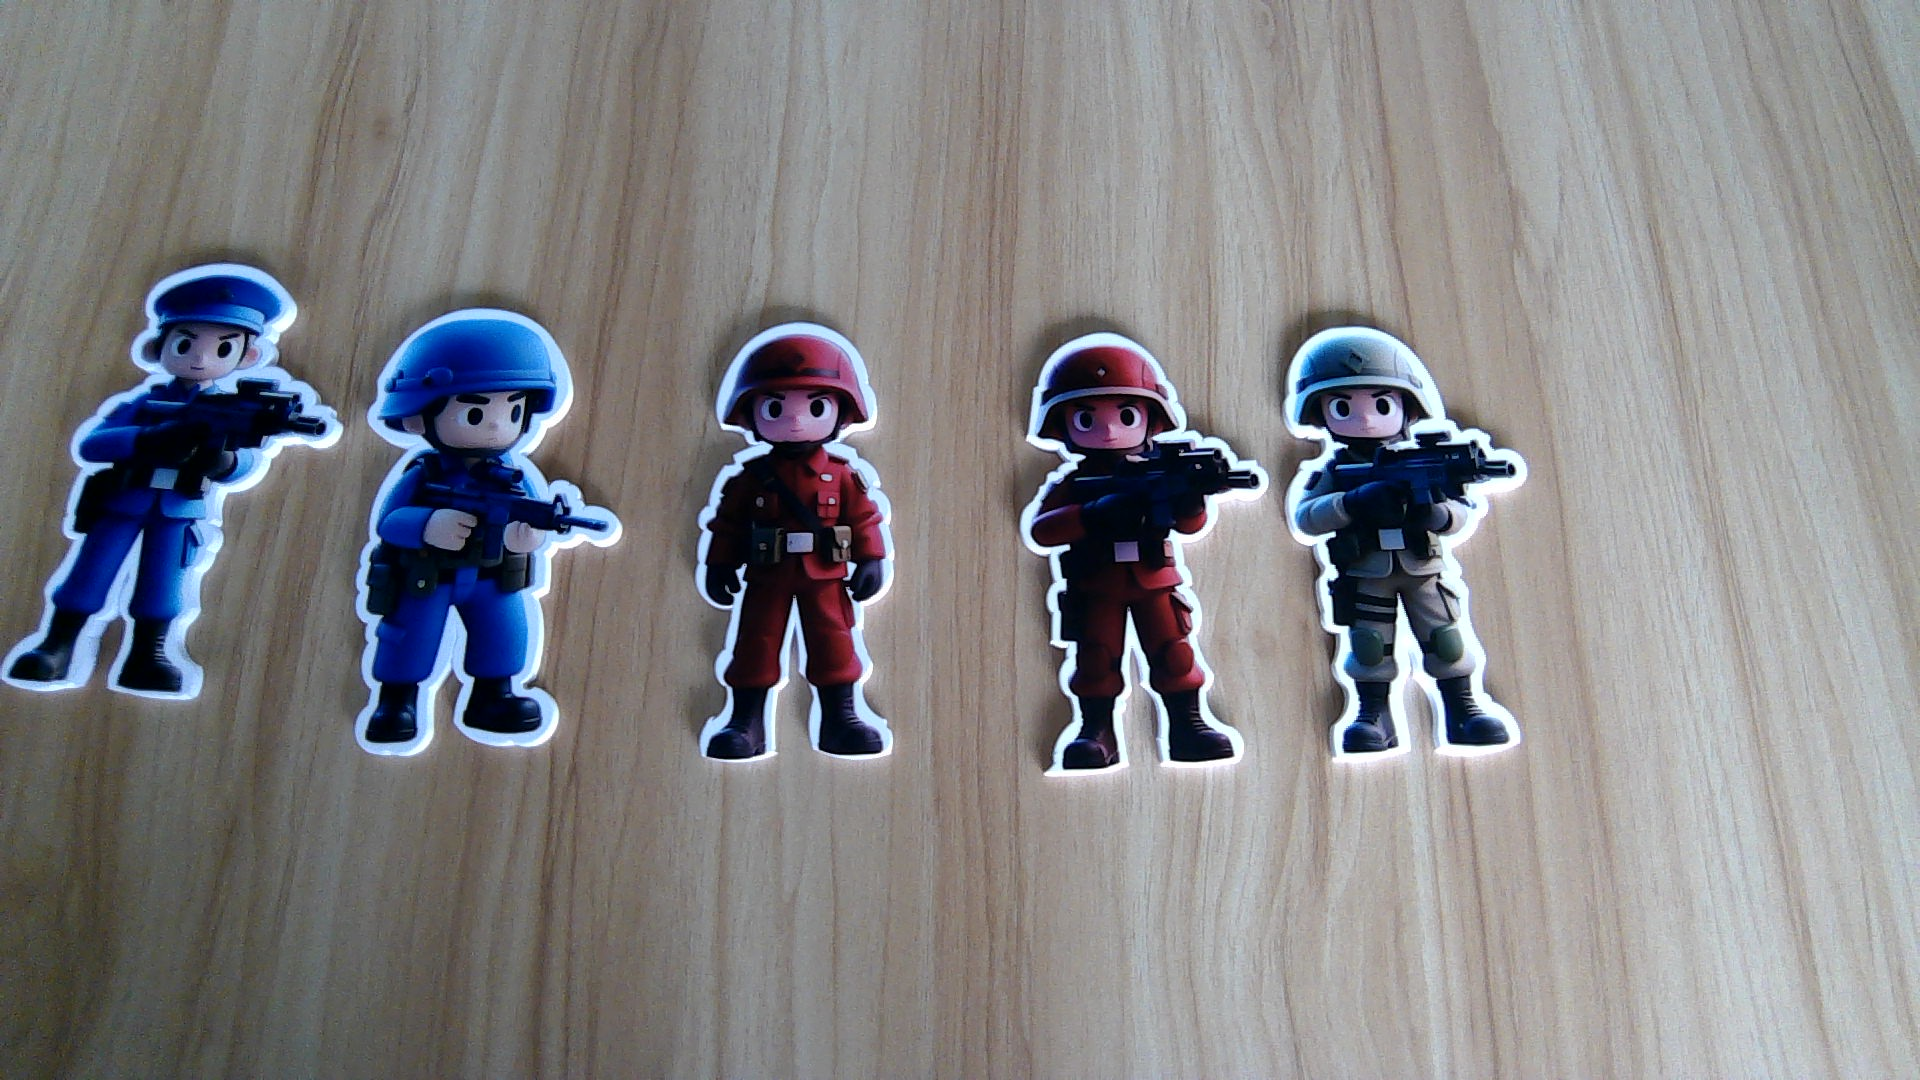友军: (1280, 447, 1542, 767)
敌人1: (1010, 462, 1265, 771), (686, 444, 914, 765)
敌人2: (3, 378, 338, 699), (347, 456, 629, 762)
